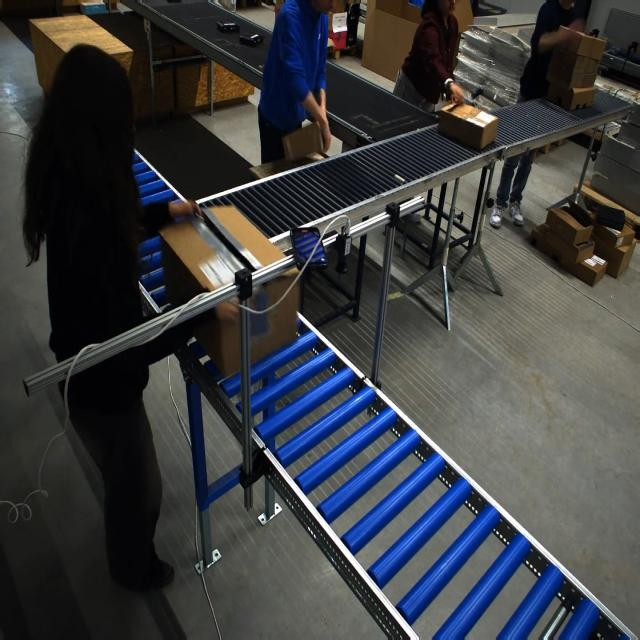box: (158, 203, 296, 373), (437, 101, 498, 151), (281, 121, 325, 162)
product: (239, 33, 264, 46), (216, 21, 240, 33)
